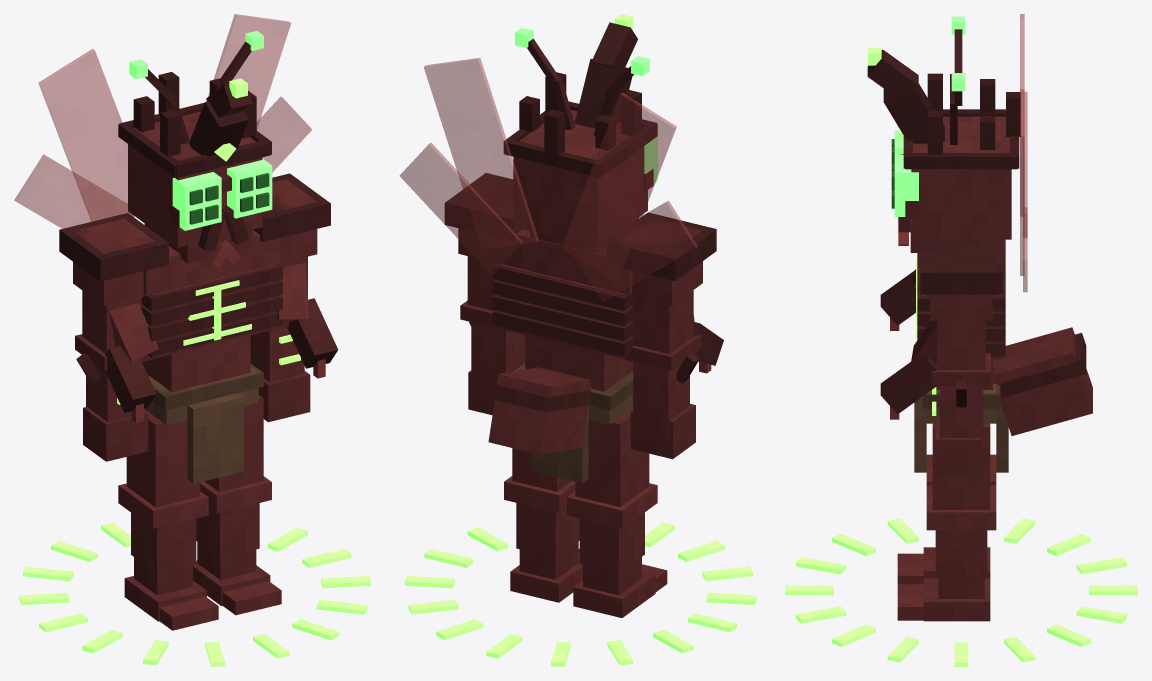
Rendered from insectoid_base_evo3.glb.
The picture shows the model from 3 angles, left to right: view 1: azimuth 30°, elevation 25°; view 2: azimuth 150°, elevation 25°; view 3: azimuth 270°, elevation 25°; orthographic projection.
Parts seen in each view (by area): view 1: Torso, Head, LegR, ArmR, LegL, ArmL, Root; view 2: Torso, Head, ArmR, LegR, ArmL, LegL, Root; view 3: Head, Torso, ArmL, LegL, Root, LegR.
Part boxes in pixels (x1,y1,x2,y2): Torso: [14, 14, 338, 483]; Head: [118, 31, 272, 267]; LegR: [118, 409, 218, 630]; ArmR: [59, 213, 168, 461]; LegL: [193, 395, 281, 615]; ArmL: [250, 173, 330, 422]; Root: [19, 522, 370, 666]; Torso: [399, 58, 723, 483]; Head: [503, 14, 657, 252]; ArmR: [607, 212, 716, 459]; LegR: [567, 407, 667, 617]; ArmL: [444, 173, 525, 415]; LegL: [504, 448, 582, 602]; Root: [404, 522, 756, 666]; Head: [867, 16, 1021, 252]; Torso: [880, 14, 1092, 472]; ArmL: [920, 239, 1002, 476]; LegL: [897, 423, 996, 621]; Root: [785, 518, 1137, 666]; LegR: [897, 454, 996, 584].
Bounding box in the file's own units: 1.16 × 1.98 × 1.16.
26 materials, 26 textured.
